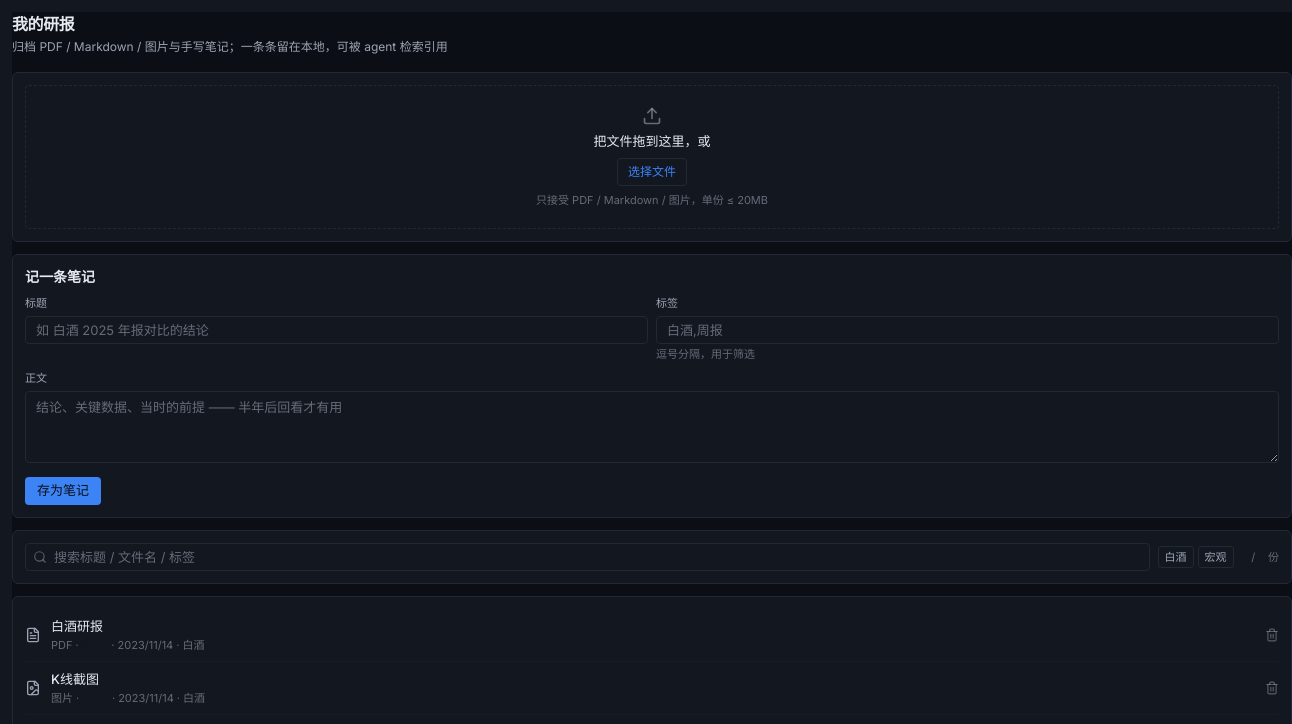
Test: 删除必须可撤销 › 删除后行消失，出现 role=status 的撤销条
Click the button named "删除 白酒研报" at coordinates (1272, 635), box x1=1265 y1=628 x2=1279 y2=642
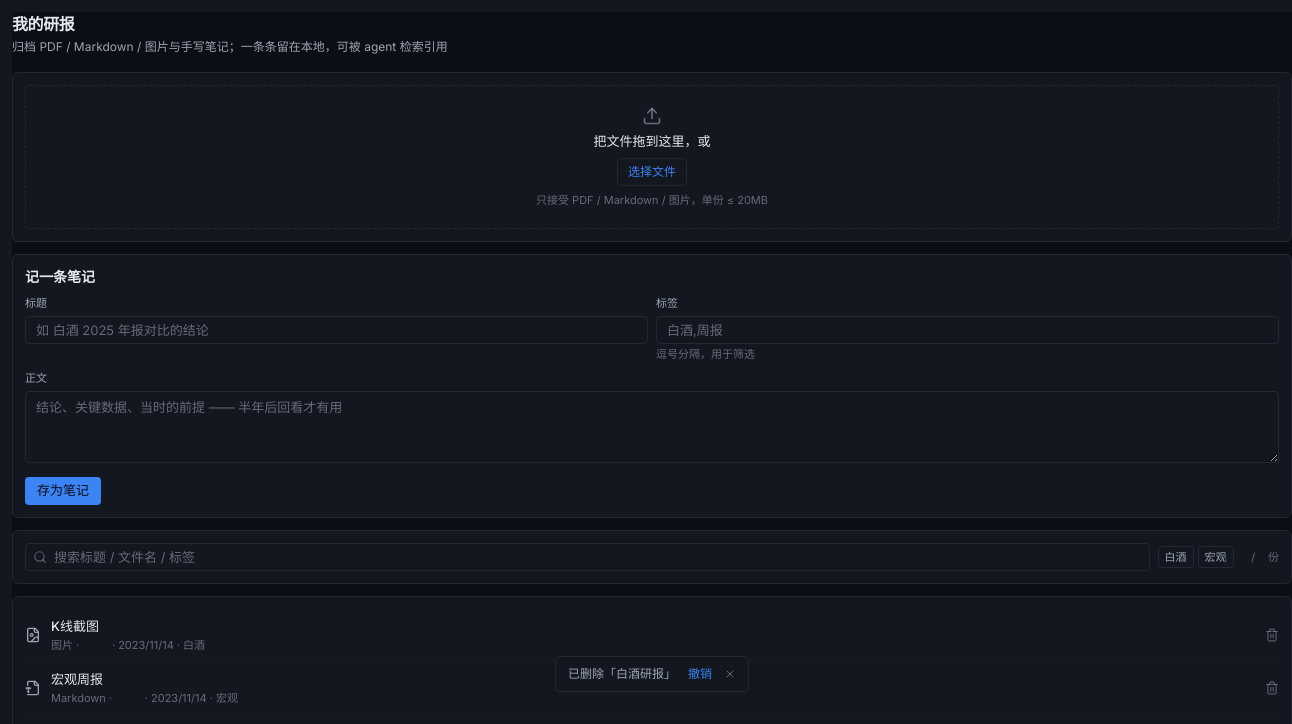
Check: the message shows "白酒研报", box x1=616 y1=666 x2=664 y2=681
Check: the button "撤销" is shown, box x1=688 y1=665 x2=712 y2=683
